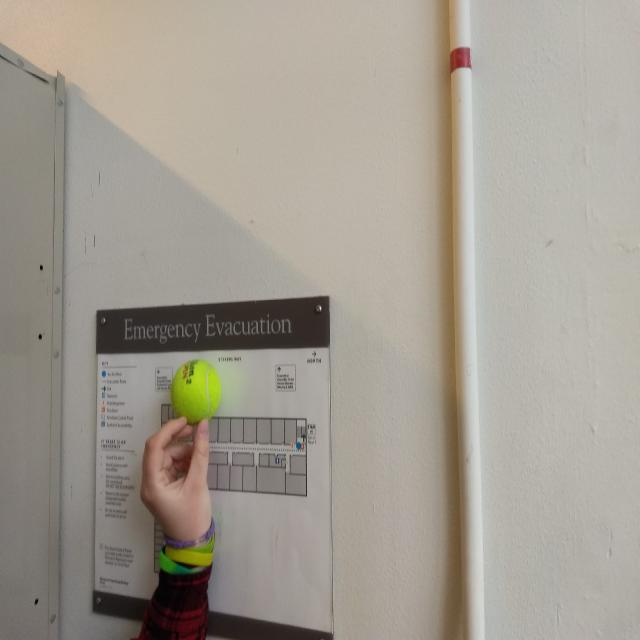Tennis-Ball: (170, 357, 222, 425)
